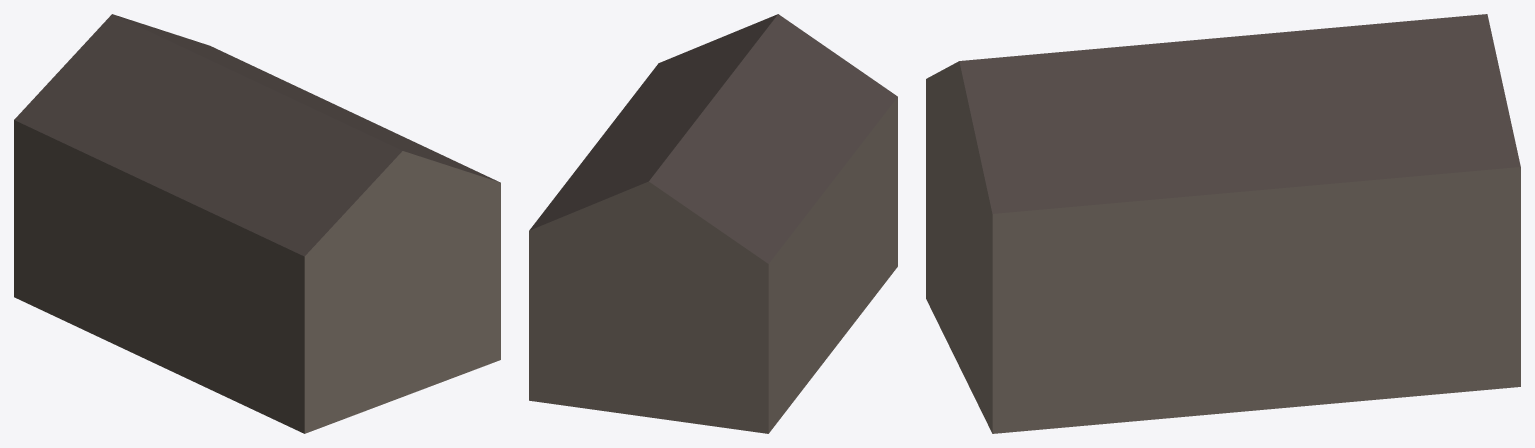
The picture shows the model from 3 angles, left to right: view 1: azimuth 30°, elevation 25°; view 2: azimuth 150°, elevation 25°; view 3: azimuth 270°, elevation 25°; orthographic projection. The views are drawn at different scales.
Visible parts, largest first — view 1: HP-w1376988679; view 2: HP-w1376988679; view 3: HP-w1376988679.
Boxes of the visible parts, <box> form: HP-w1376988679: <box>14,14,500,433</box>; HP-w1376988679: <box>529,14,897,433</box>; HP-w1376988679: <box>926,14,1520,433</box>.
Bounding box in the file's own units: 10.65 × 8.33 × 14.7.
